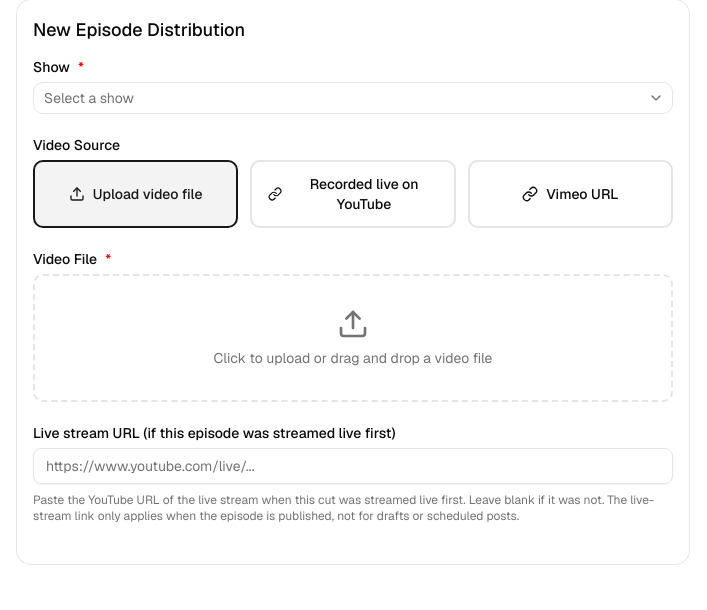
Scenario: distribution live stream URL field › shows which live post the URL would replace
Click the dropdown.
click(89, 98)  # box [33,82,673,114]
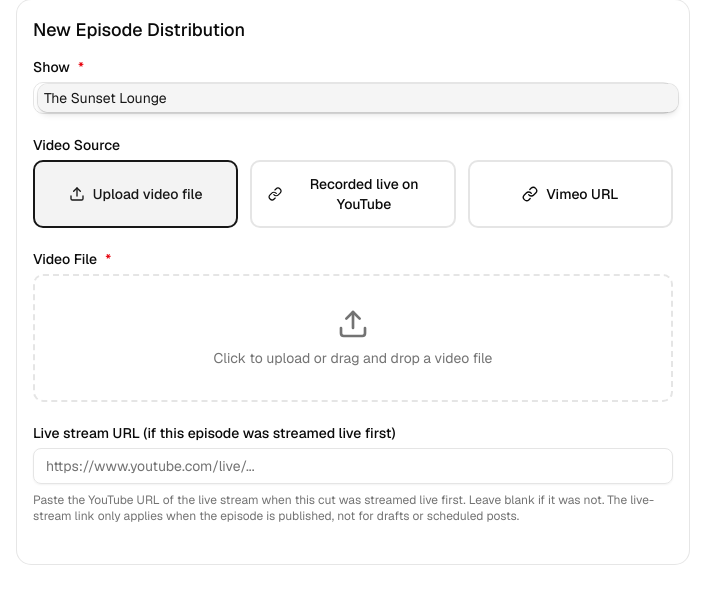
Click the option "The Sunset Lounge".
click(105, 98)  # box [38,84,678,112]
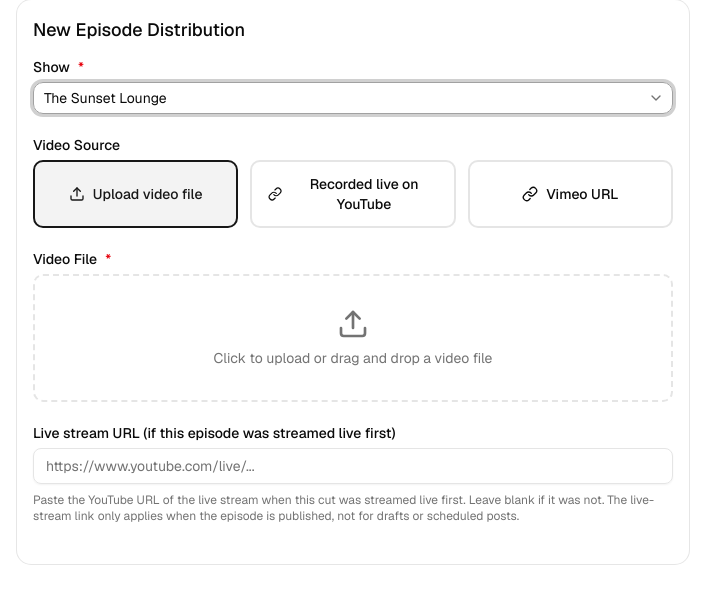
Type "https://www.youtube.com/live/sLB7STNGACI" into the field labelled "Live stream URL (if this episode was streamed live first)".
click(353, 466); type("https://www.youtube.com/live/sLB7STNGACI")  # box [33,448,673,484]
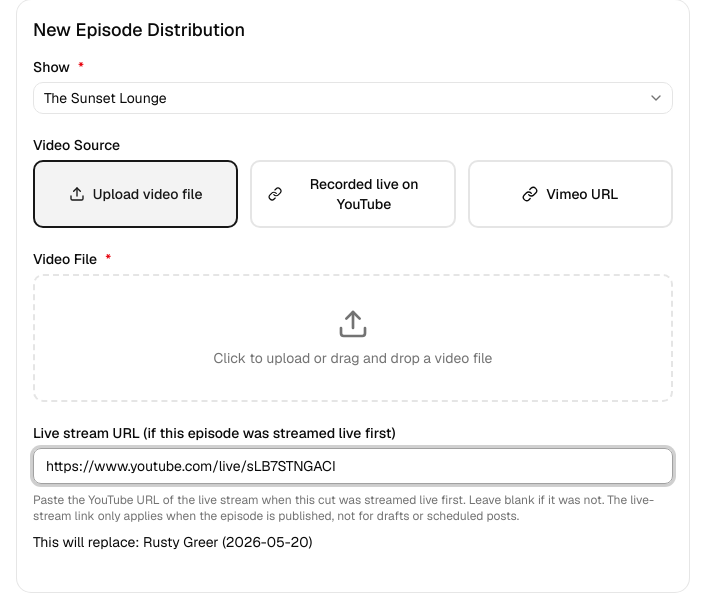
Expected: the text "This will replace: Rusty Greer (2026-05-20)" is shown, [33,533,312,551]
